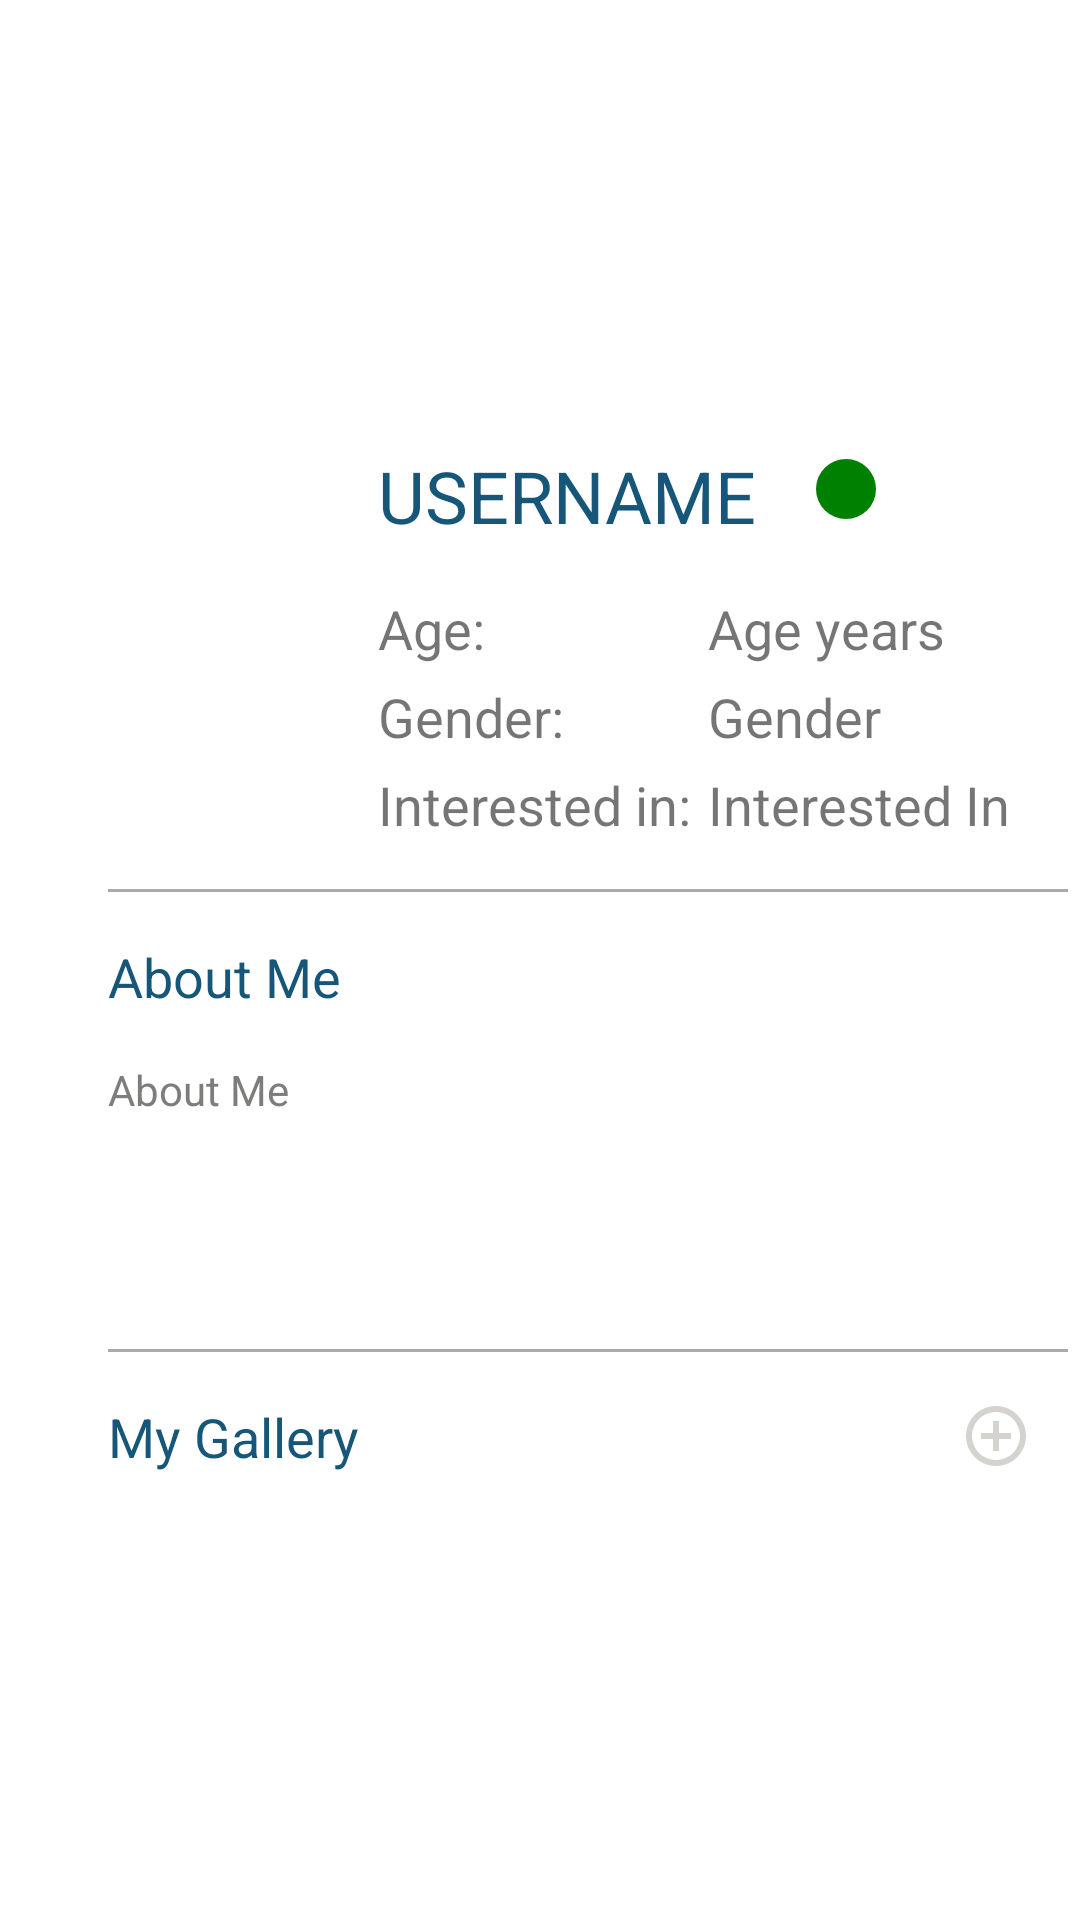

Icon bounding boxes for this 1080×1920 phone screenshot, format {"left": x1, "top": y1, "right": x2, "bottom": y2}:
add circle: {"left": 966, "top": 1406, "right": 1026, "bottom": 1466}
